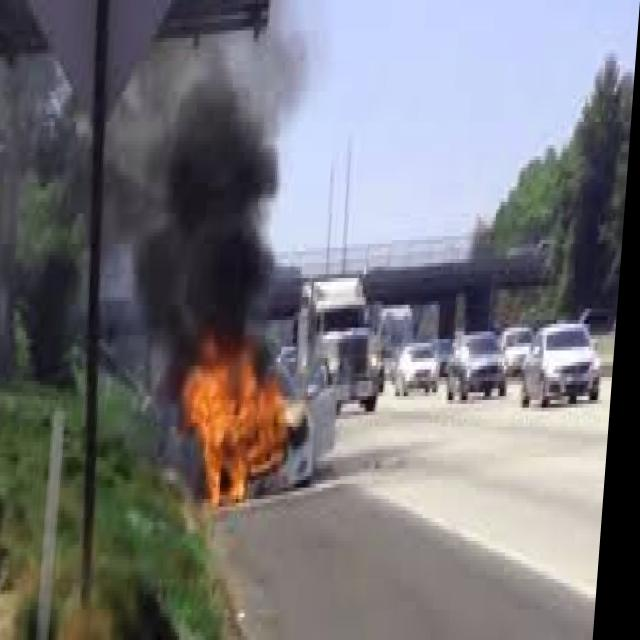fire: (171, 328, 303, 507)
